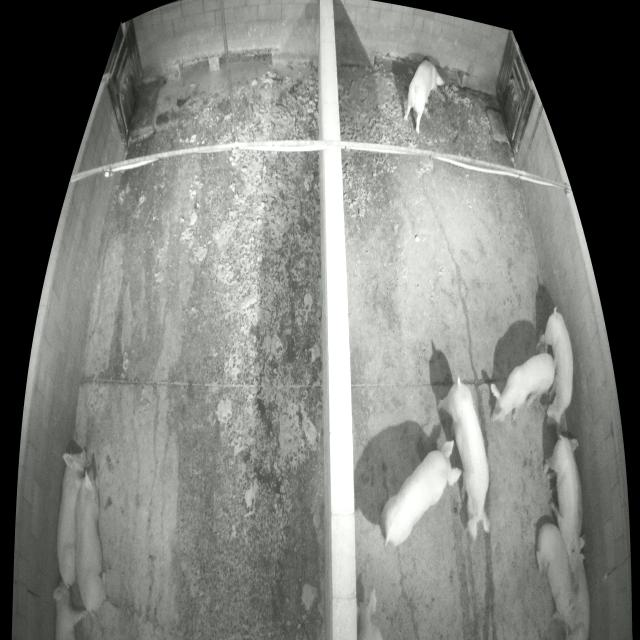pig: (379, 441, 462, 548), (437, 382, 491, 541), (543, 439, 586, 572), (75, 466, 107, 614), (490, 352, 554, 423), (56, 449, 88, 588), (536, 311, 573, 426), (536, 523, 576, 628), (404, 61, 444, 134), (566, 552, 592, 639), (54, 579, 88, 638), (357, 585, 383, 636)
